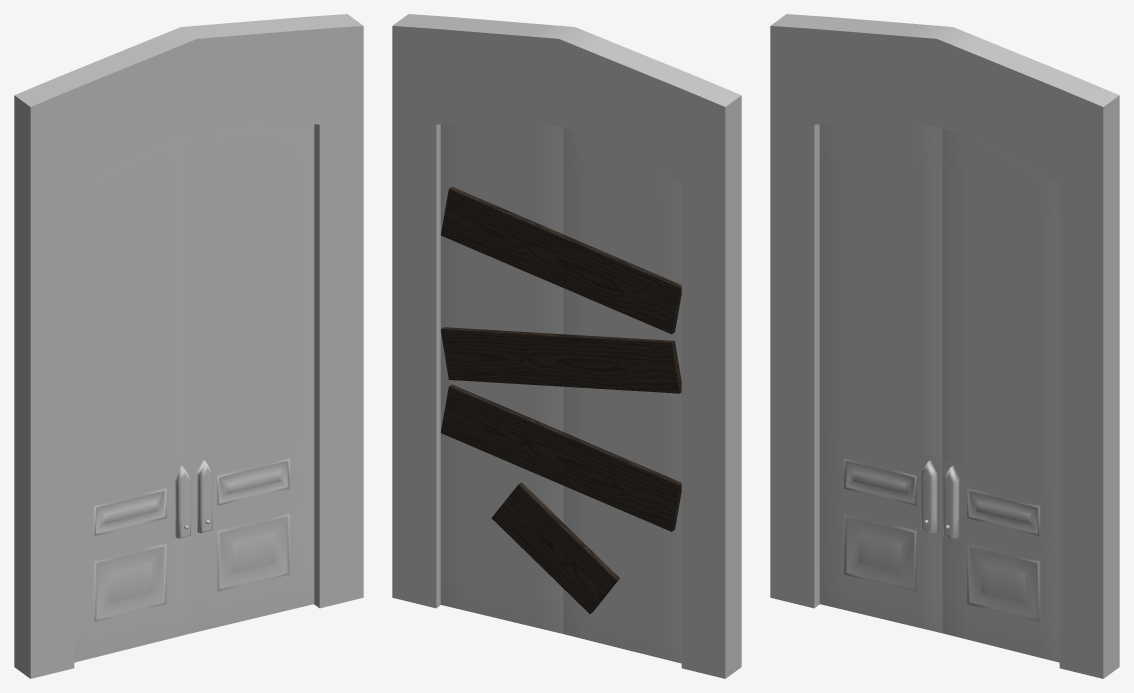
Rendered from closedDoor.fbx.
3 renders of one model, left to right at view 1: azimuth 30°, elevation 25°; view 2: azimuth 150°, elevation 25°; view 3: azimuth 330°, elevation 25°, orthographic.
Parts seen in each view (by area): view 1: door, frame; view 2: frame, door, plank001, plank002, plank, plank003; view 3: door, frame.
Part boxes in pixels (x1,y1,x2,y2): door: (74,120,314,662); frame: (14,14,363,678); frame: (392,14,741,678); door: (440,120,681,663); plank001: (440,187,681,334); plank002: (440,384,681,531); plank: (440,327,681,393); plank003: (491,482,619,613); door: (819,120,1059,662); frame: (770,14,1119,678).
Bounding box in the file's own units: 305 × 524 × 27.58.
